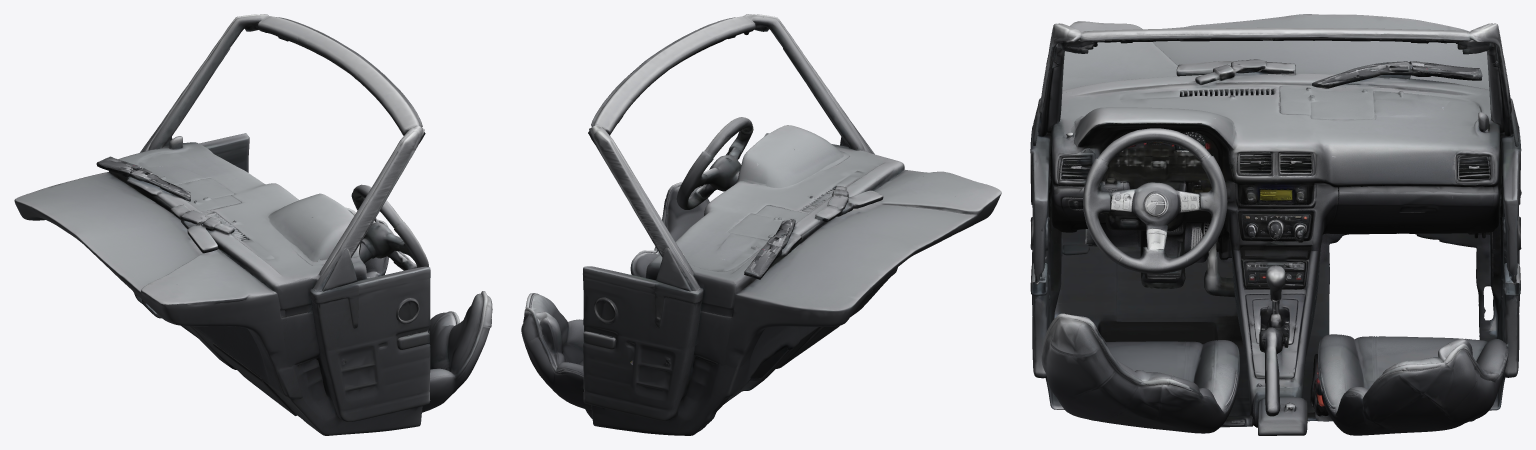
File: tripo-shared-original.glb
3 views of the same model, side by side, from view 1: azimuth 30°, elevation 25°; view 2: azimuth 150°, elevation 25°; view 3: azimuth 270°, elevation 25° (orthographic). The views are drawn at different scales.
Visible parts, largest first — view 1: tripo_part_0, tripo_part_2, tripo_part_4, tripo_part_1, tripo_part_6, tripo_part_14, tripo_part_12, tripo_part_16, tripo_part_17, tripo_part_10, tripo_part_63, tripo_part_31 (+11 smaller); view 2: tripo_part_0, tripo_part_3, tripo_part_4, tripo_part_7, tripo_part_12, tripo_part_14, tripo_part_8, tripo_part_16, tripo_part_17, tripo_part_10, tripo_part_5, tripo_part_1 (+9 smaller); view 3: tripo_part_0, tripo_part_1, tripo_part_5, tripo_part_6, tripo_part_4, tripo_part_11, tripo_part_13, tripo_part_10, tripo_part_8, tripo_part_18, tripo_part_9, tripo_part_17 (+32 smaller).
Part boxes in pixels (bbox=[...]): tripo_part_0: bbox=[14, 142, 323, 399]; tripo_part_2: bbox=[308, 266, 430, 421]; tripo_part_4: bbox=[142, 14, 425, 154]; tripo_part_1: bbox=[422, 291, 492, 412]; tripo_part_6: bbox=[266, 359, 422, 435]; tripo_part_14: bbox=[141, 250, 248, 305]; tripo_part_12: bbox=[268, 193, 360, 261]; tripo_part_16: bbox=[312, 140, 415, 292]; tripo_part_17: bbox=[109, 159, 282, 297]; tripo_part_10: bbox=[351, 184, 428, 270]; tripo_part_63: bbox=[283, 313, 319, 366]; tripo_part_31: bbox=[170, 204, 234, 253]; tripo_part_0: bbox=[645, 145, 1001, 368]; tripo_part_3: bbox=[583, 266, 703, 421]; tripo_part_4: bbox=[588, 14, 784, 291]; tripo_part_7: bbox=[591, 326, 803, 435]; tripo_part_12: bbox=[738, 125, 843, 188]; tripo_part_14: bbox=[873, 171, 1001, 214]; tripo_part_8: bbox=[521, 293, 583, 372]; tripo_part_16: bbox=[766, 20, 871, 153]; tripo_part_17: bbox=[728, 161, 904, 294]; tripo_part_10: bbox=[676, 117, 753, 209]; tripo_part_5: bbox=[526, 338, 591, 409]; tripo_part_1: bbox=[630, 181, 709, 277]; tripo_part_0: bbox=[1056, 14, 1501, 199]; tripo_part_1: bbox=[1041, 313, 1253, 433]; tripo_part_5: bbox=[1310, 334, 1508, 435]; tripo_part_6: bbox=[1045, 221, 1250, 415]; tripo_part_4: bbox=[1051, 23, 1513, 136]; tripo_part_11: bbox=[1228, 230, 1320, 427]; tripo_part_13: bbox=[1327, 172, 1501, 238]; tripo_part_10: bbox=[1083, 128, 1227, 273]; tripo_part_8: bbox=[1335, 338, 1498, 426]; tripo_part_18: bbox=[1115, 222, 1238, 325]; tripo_part_9: bbox=[1106, 340, 1239, 413]; tripo_part_17: bbox=[1062, 73, 1489, 96].
Size of the model in its own units: 0.9806 by 0.8218 by 0.9151.
66 materials, 66 textured.
